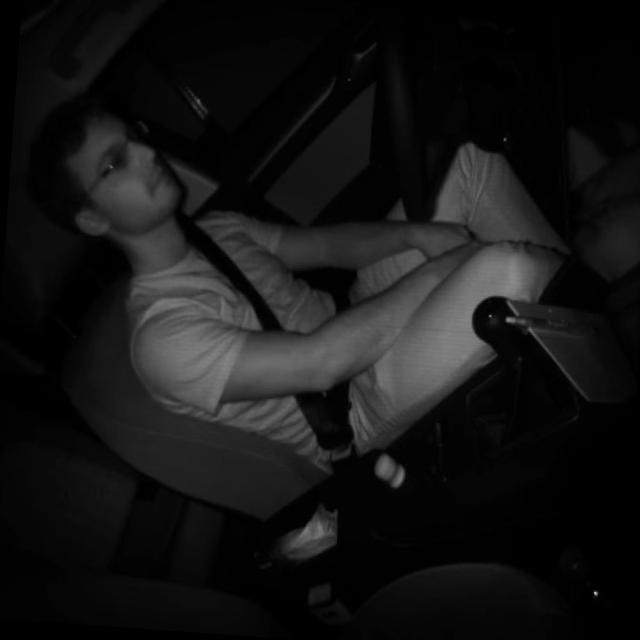pen: (503, 314, 606, 336)
